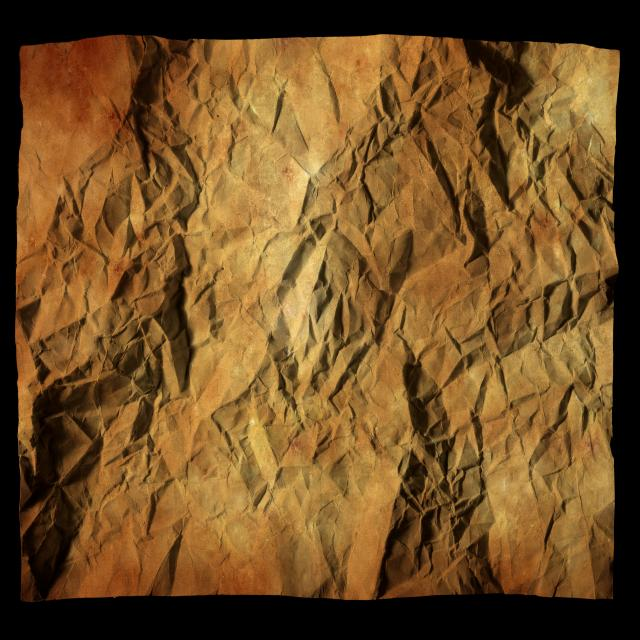cardboard: (160, 123, 496, 512)
